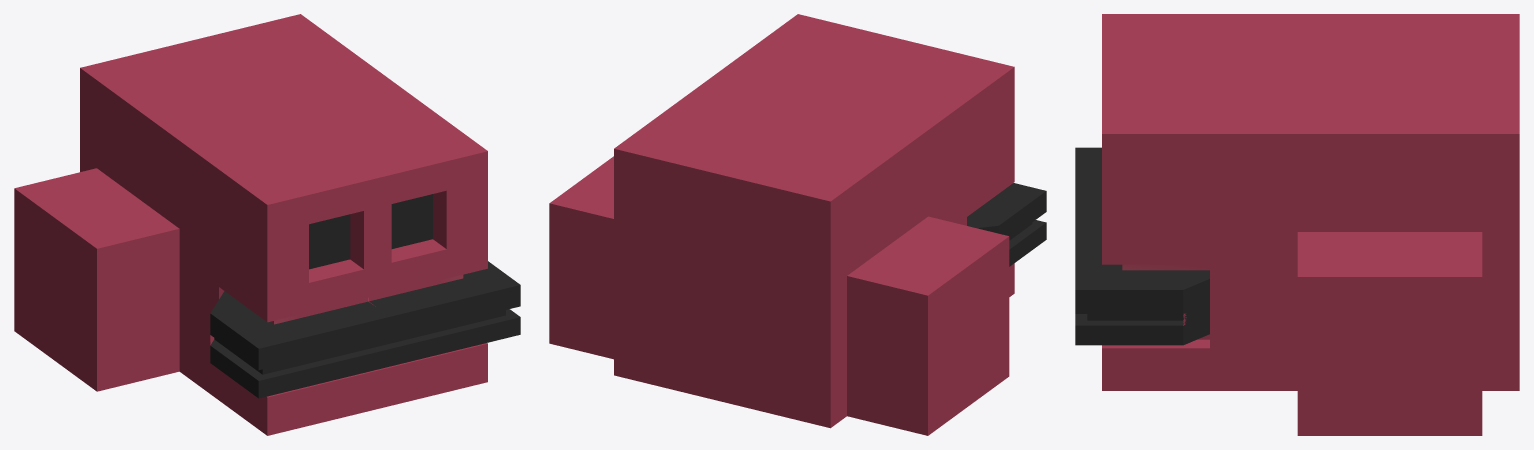
Rendered from frogliq4.obj.
The picture shows the model from 3 angles, left to right: view 1: azimuth 30°, elevation 25°; view 2: azimuth 150°, elevation 25°; view 3: azimuth 270°, elevation 25°; orthographic projection. The views are drawn at different scales.
Visible parts, largest first — view 1: frog4, frog4.001; view 2: frog4, frog4.001; view 3: frog4, frog4.001.
Boxes of the visible parts, <box> form: frog4: <box>14,14,487,435</box>; frog4.001: <box>210,194,520,398</box>; frog4: <box>549,14,1014,435</box>; frog4.001: <box>967,183,1046,266</box>; frog4: <box>1102,14,1519,435</box>; frog4.001: <box>1075,147,1209,345</box>.
Size of the model in its own units: 11.84 by 6.78 by 10.6.
